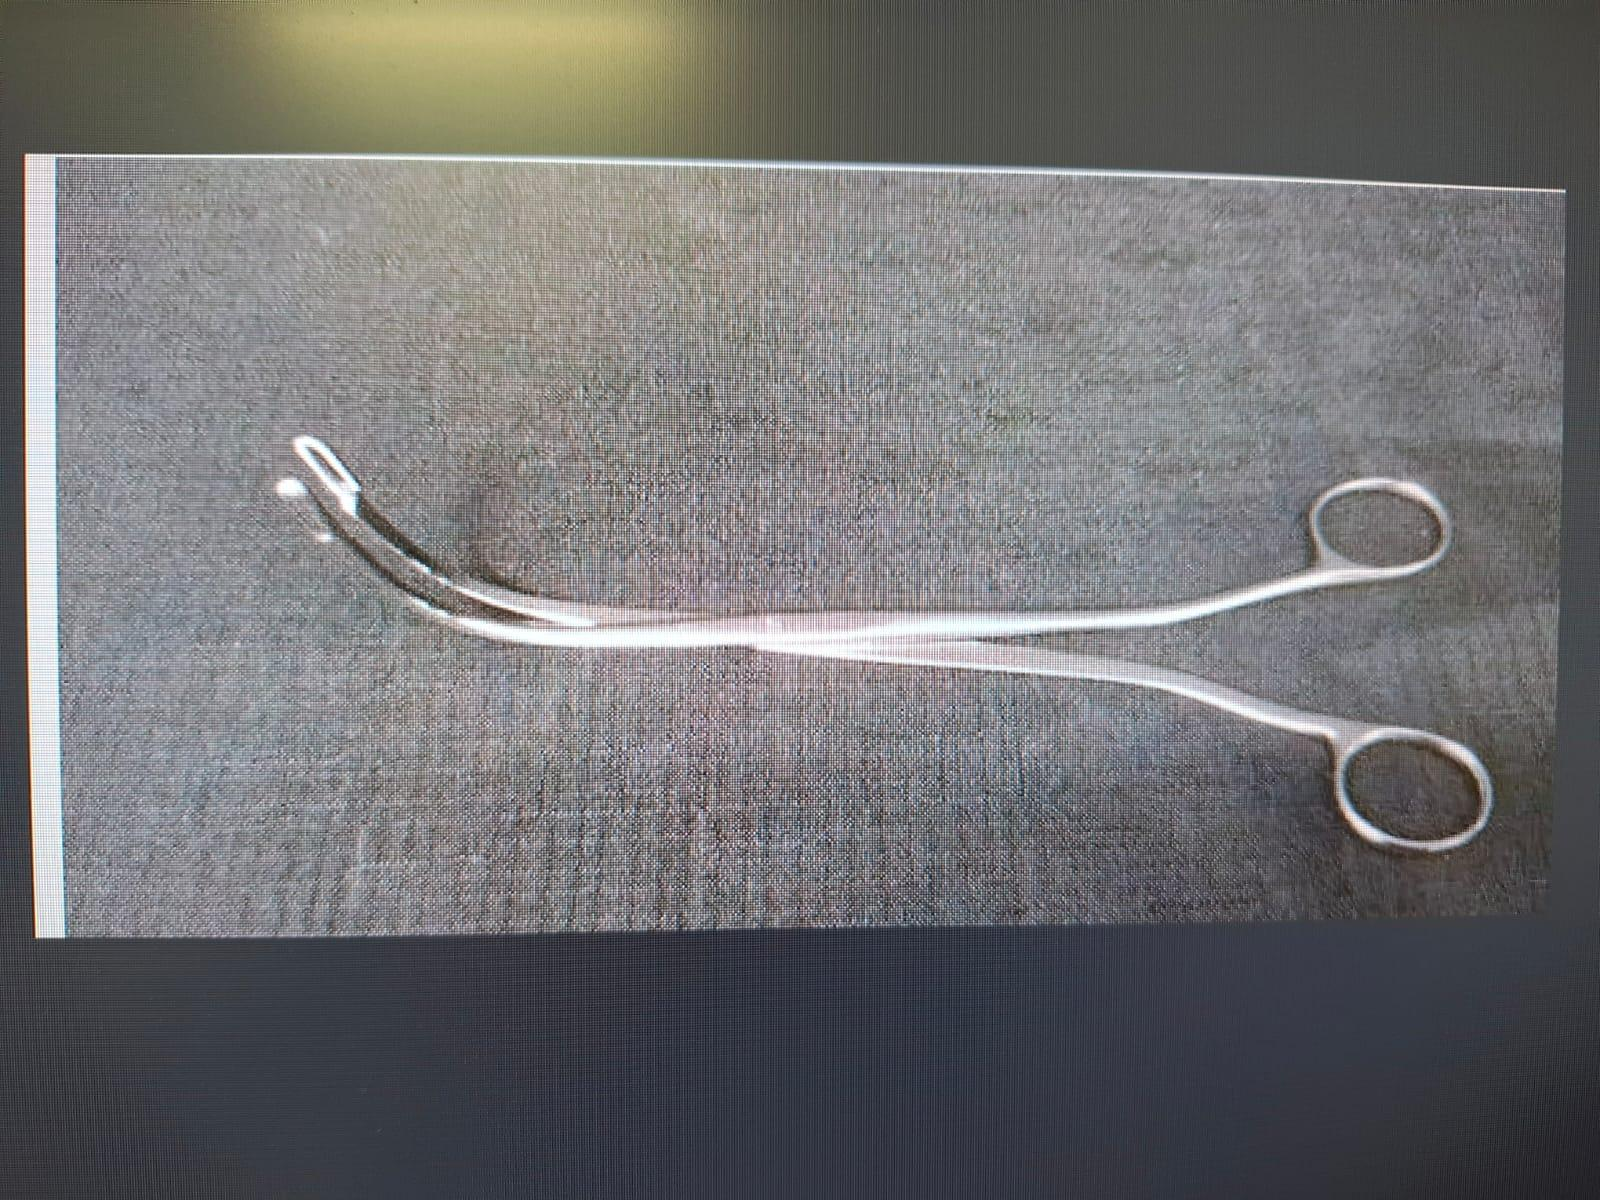Randall Forceps: (265, 379, 1512, 874)
